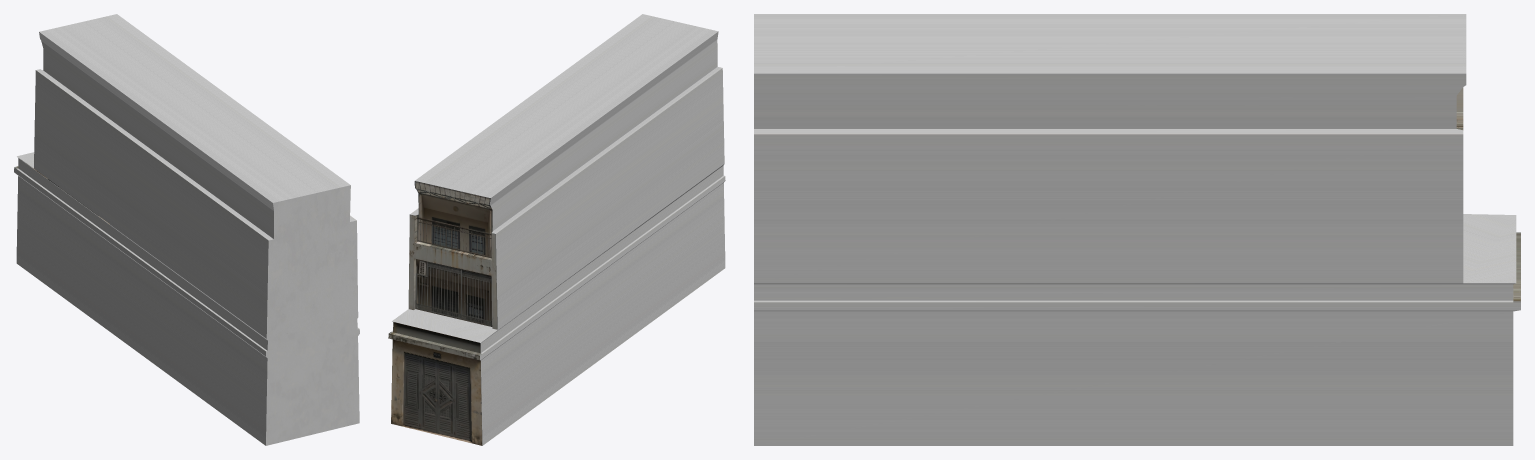
File: RefHouse9.fbx
3 renders of one model, left to right at view 1: azimuth 30°, elevation 25°; view 2: azimuth 150°, elevation 25°; view 3: azimuth 270°, elevation 25°, orthographic. The views are drawn at different scales.
Visible parts, largest first — view 1: ReferenceHouse9; view 2: ReferenceHouse9; view 3: ReferenceHouse9.
Part boxes in pixels (bbox=[...]): ReferenceHouse9: bbox=[14, 14, 359, 445]; ReferenceHouse9: bbox=[388, 14, 725, 445]; ReferenceHouse9: bbox=[754, 14, 1520, 445].
Bounding box in the file's own units: 450 × 1103 × 2086.
Materials: 2 (2 with a texture image).
